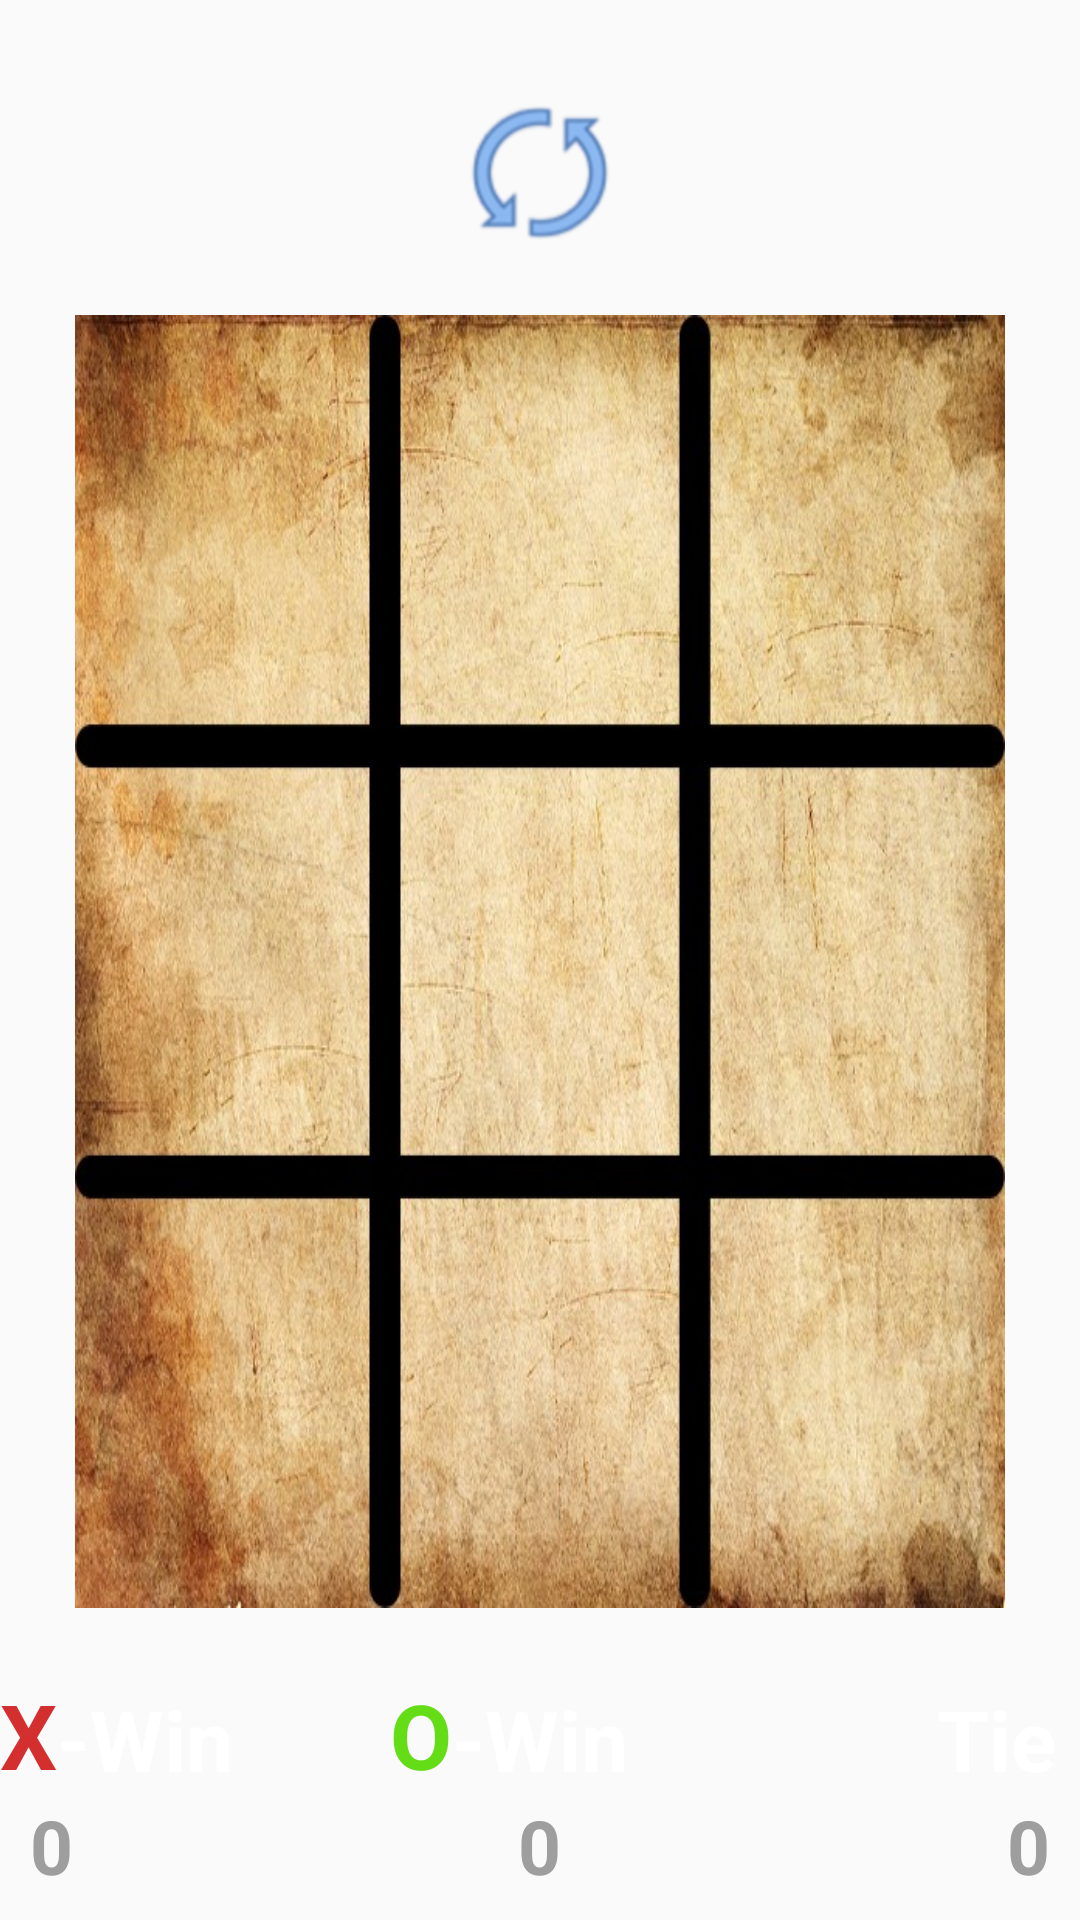

Icon click points for this 1080x1920 phone screenshot, format point (x, y):
ref: point (540, 172)
